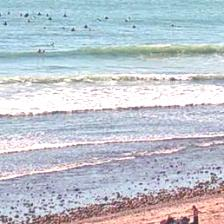surfer: (170, 24, 182, 28), (37, 49, 45, 53), (129, 16, 136, 20), (94, 18, 100, 22), (3, 22, 8, 26), (24, 13, 28, 17), (48, 16, 52, 20), (45, 13, 49, 17), (37, 12, 41, 16), (71, 28, 75, 32), (84, 24, 88, 28), (105, 16, 109, 20), (132, 25, 136, 29), (47, 44, 54, 46), (0, 13, 3, 17), (61, 27, 65, 30), (62, 14, 66, 17), (124, 19, 128, 22), (27, 20, 30, 23), (8, 11, 10, 15), (20, 13, 22, 16), (44, 27, 46, 29), (34, 17, 36, 19)
